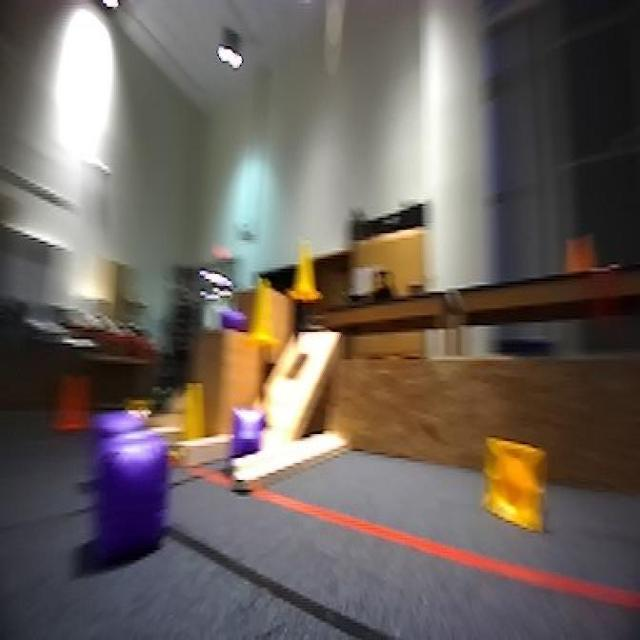frc_cone: (481, 428, 560, 546), (291, 228, 326, 303), (182, 375, 205, 439), (255, 293, 280, 347)
frc_cube: (101, 427, 180, 557), (232, 407, 270, 453), (209, 303, 254, 339)
